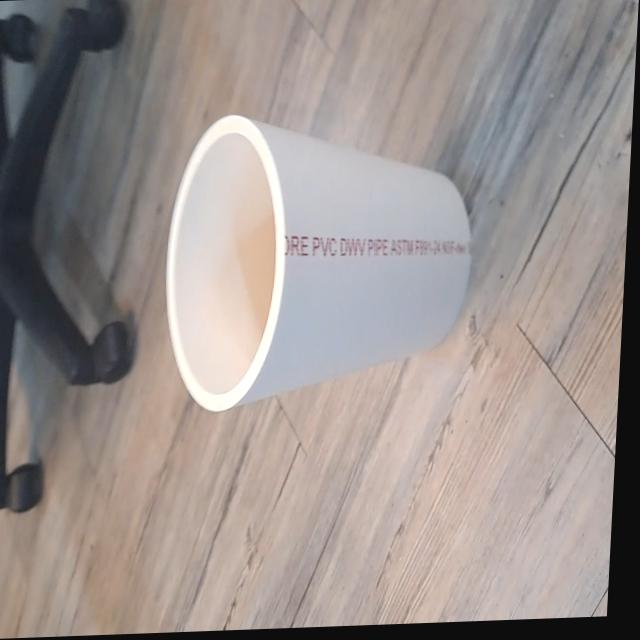CORAL: (150, 94, 494, 422)
